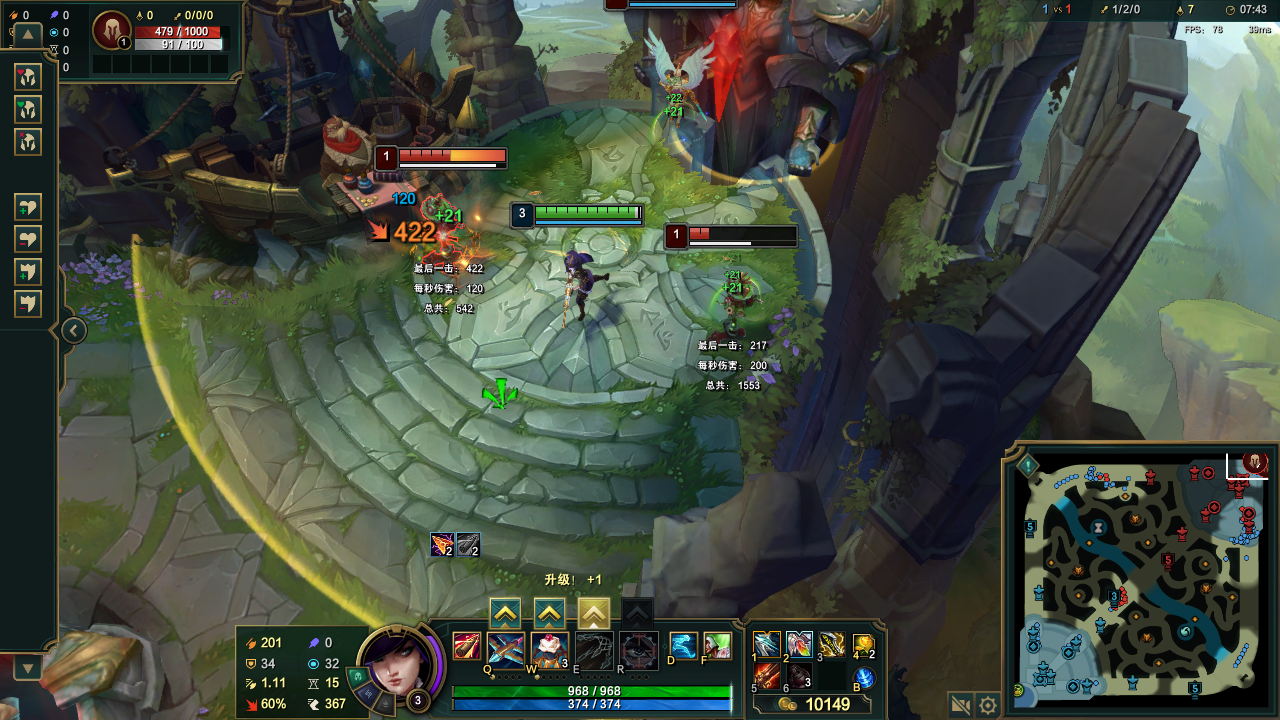DFYX: (686, 223, 804, 238), (400, 148, 507, 162)
